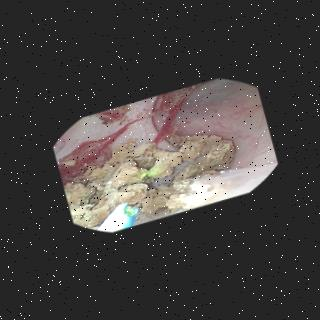fiber: (97, 202, 139, 228)
laser: (141, 168, 157, 176), (125, 206, 136, 217)
stone: (65, 134, 234, 226), (63, 158, 75, 165)
